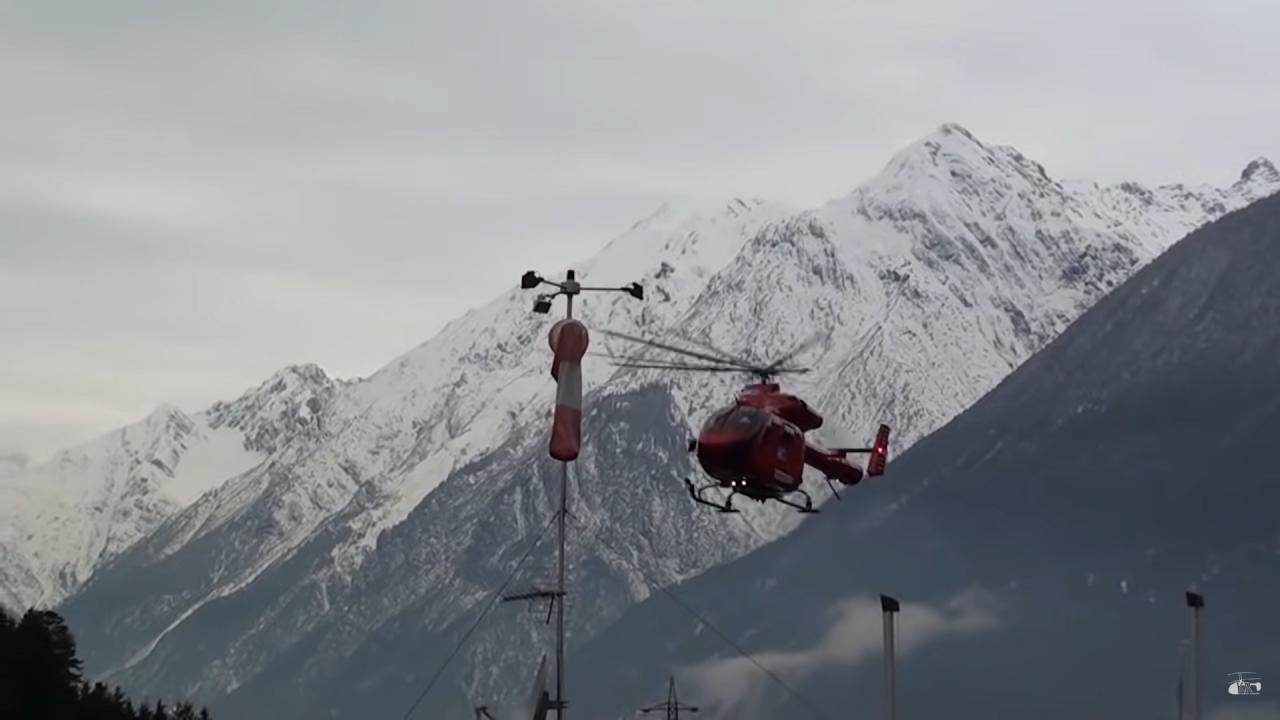Helicopter: (588, 318, 908, 528)
